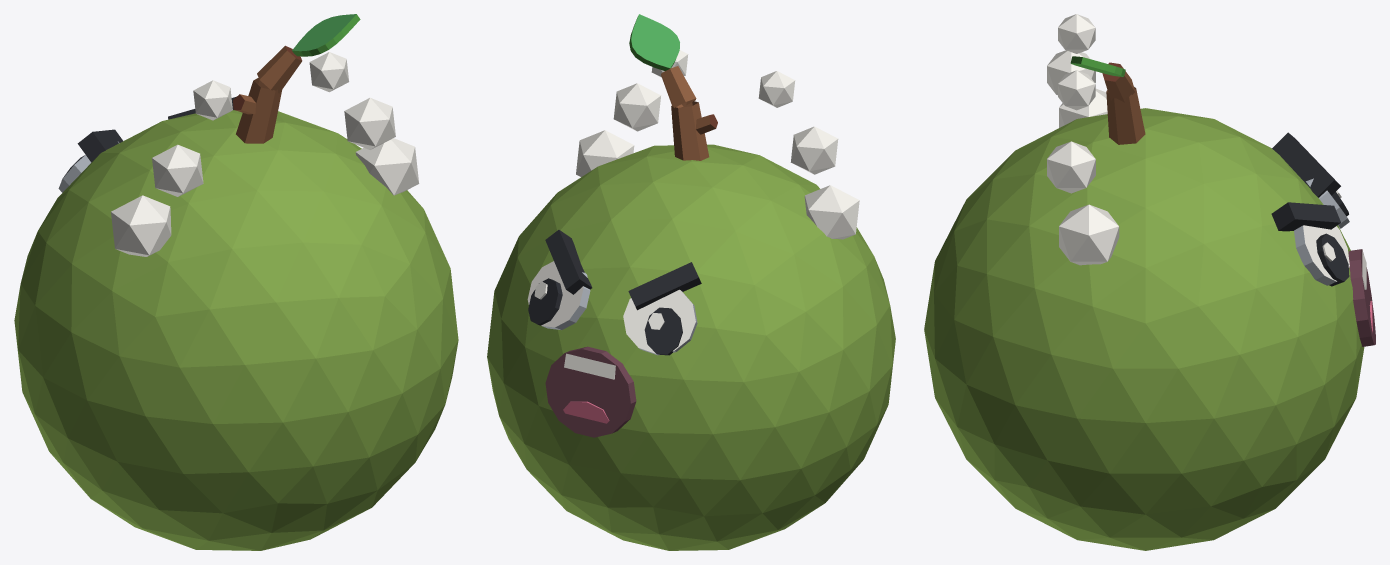
The model's file is CH_Dalcik_T5_Eat.fbx.
The picture shows the model from 3 angles, left to right: view 1: azimuth 30°, elevation 25°; view 2: azimuth 150°, elevation 25°; view 3: azimuth 270°, elevation 25°; orthographic projection. The views are drawn at different scales.
Parts seen in each view (by area): view 1: CH_Dalcik_T5_Eat; view 2: CH_Dalcik_T5_Eat; view 3: CH_Dalcik_T5_Eat.
Boxes of the visible parts, x1,y1,x2,y2 form: CH_Dalcik_T5_Eat: (14,14,458,550); CH_Dalcik_T5_Eat: (487,14,895,550); CH_Dalcik_T5_Eat: (924,14,1375,550).
Size of the model in its own units: 1 by 1.29 by 1.02.
